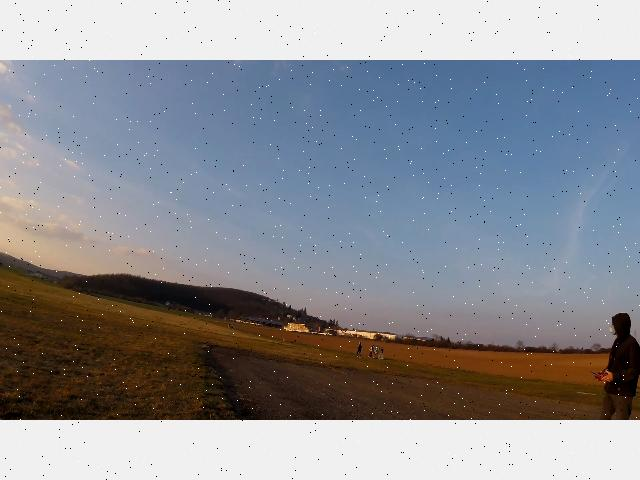Anti-Drone: (260, 297, 288, 305)
